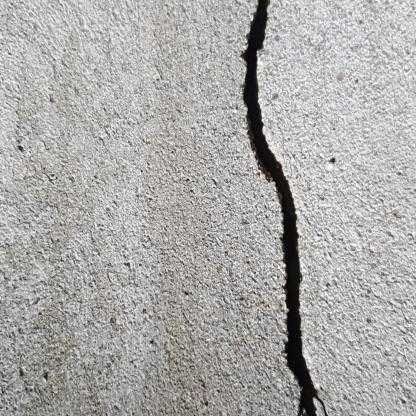crack: (239, 0, 317, 415)
